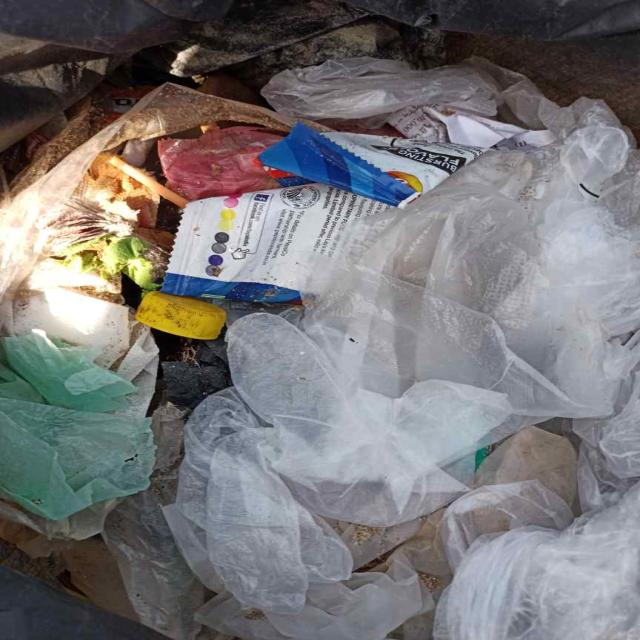bao_bi_thuc_pham: (162, 123, 486, 302)
nhua: (165, 101, 640, 640), (0, 307, 204, 640), (1, 119, 119, 290), (261, 56, 501, 120), (261, 56, 499, 119), (158, 126, 282, 200), (135, 291, 226, 340), (119, 83, 187, 139)
rac_huu_co: (53, 234, 169, 291)
